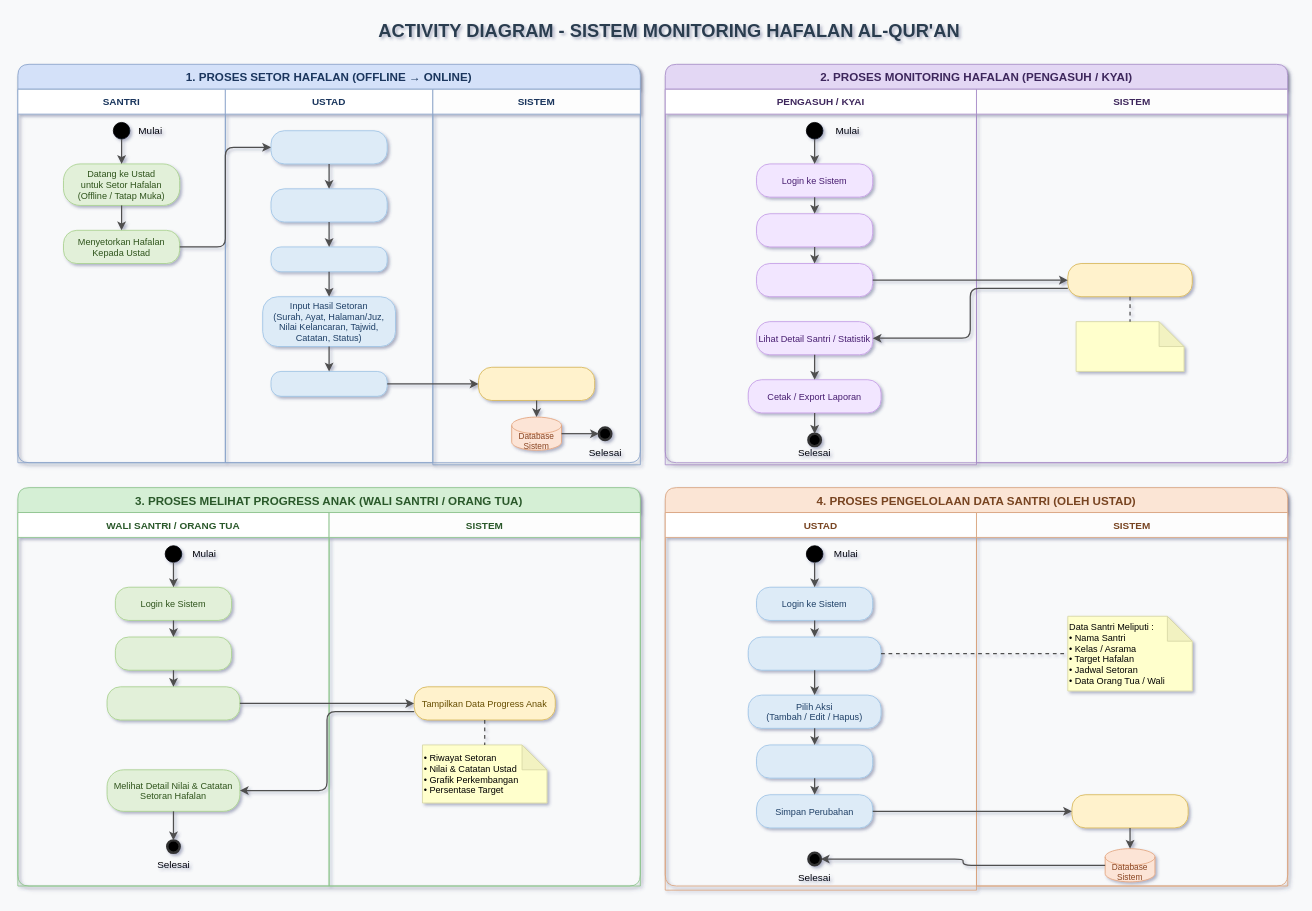
Some shapes in this 1312 by 911 pixel diagram are drawn without their labels. Each missing label, with the centre of its shape:
"Dashboard Monitoring" goes at (x=814, y=230).
"Input / Ubah Data Santri" goes at (x=814, y=761).
"Lihat Progress Hafalan Anak" goes at (x=173, y=703).
"Membuka Sistem" goes at (x=328, y=259).
"Menguji Hafalan Santri (Tatap Muka)" goes at (x=328, y=147).
"Menilai Hafalan Santri" goes at (x=328, y=205).
"Menyimpan Data Santri" goes at (x=1129, y=811).
"Menyimpan Data Setoran Hafalan" goes at (x=536, y=383).
"Pilih Anak / Santri" goes at (x=173, y=653).
"Pilih Menu Kelola Data Santri" goes at (x=814, y=653).
"Pilih Menu Monitoring Santri" goes at (x=814, y=280).
"Simpan Hasil Setoran" goes at (x=328, y=383).
"Tampilkan Data Progress Seluruh Santri" goes at (x=1129, y=280).
"• Progress Hafalan • Statistik Hafalan • Ranking Santri" goes at (x=1129, y=346).
